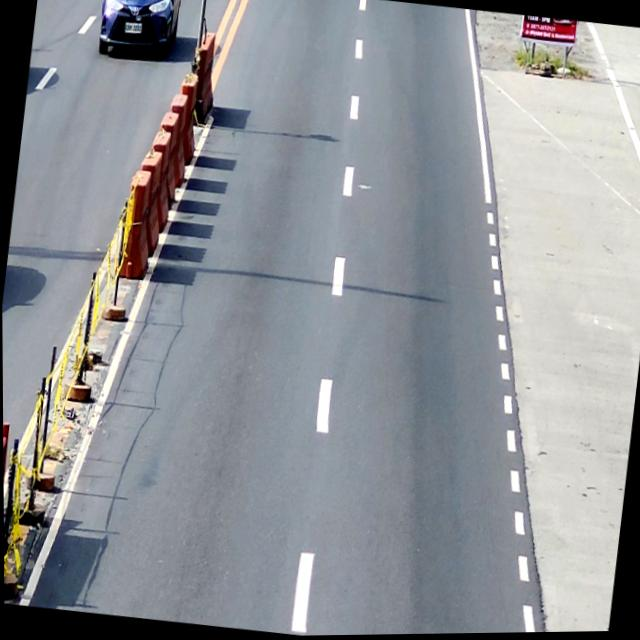Car: (92, 0, 184, 63)
License-Plate: (123, 19, 143, 36)
